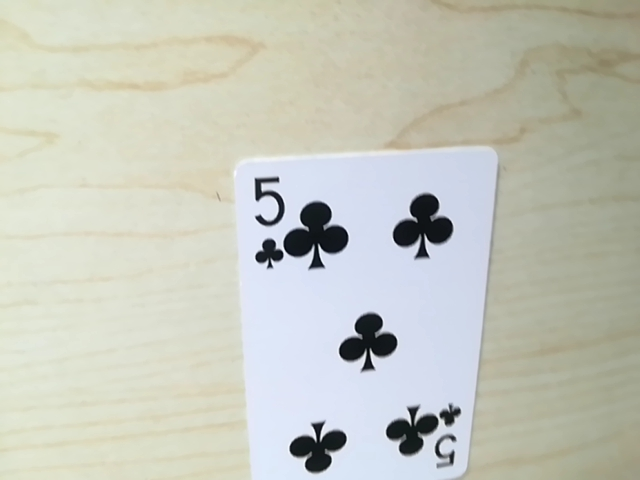mh 5: (247, 165, 283, 270), (433, 403, 462, 479)
